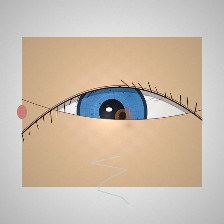foreign_body_visible: (79, 124, 123, 159)
